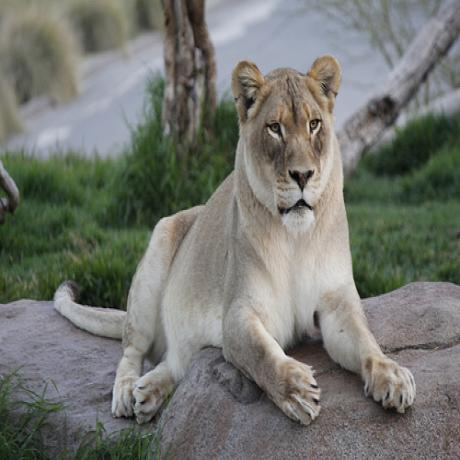Lion: (57, 46, 410, 431)
